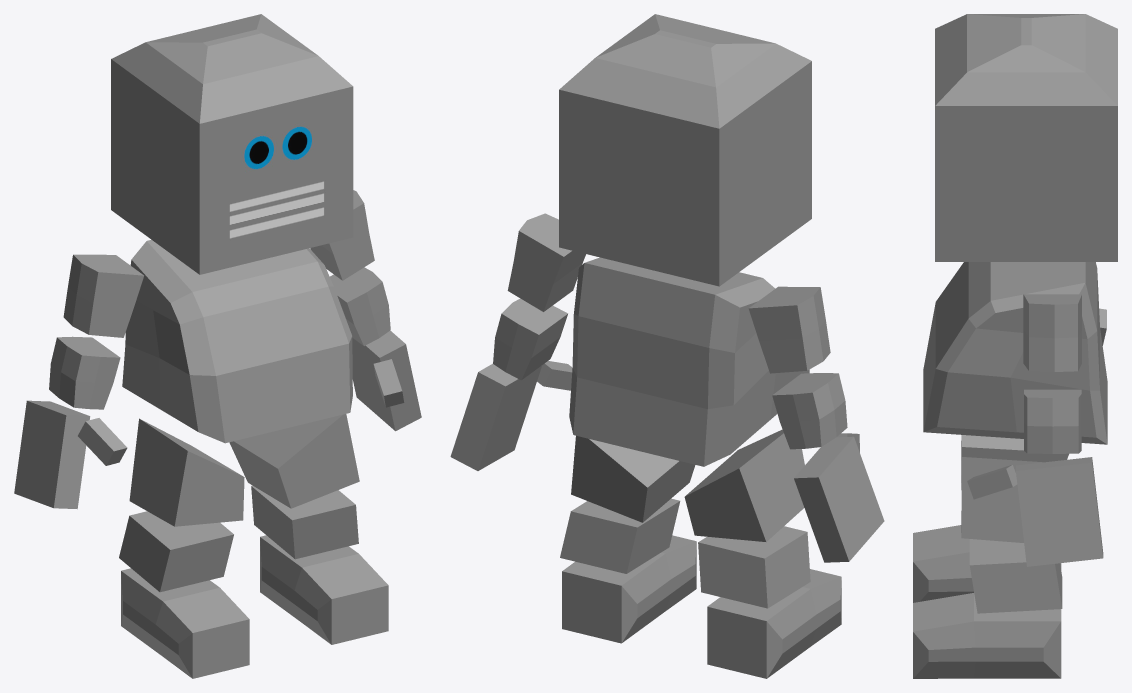
File: robot.fbx
The picture shows the model from 3 angles, left to right: view 1: azimuth 30°, elevation 25°; view 2: azimuth 150°, elevation 25°; view 3: azimuth 270°, elevation 25°; orthographic projection. The views are drawn at different scales.
Parts seen in each view (by area): view 1: robot:polySurface19; view 2: robot:polySurface19; view 3: robot:polySurface19.
Part boxes in pixels (box(x1,y1,x2,y2)): robot:polySurface19: box(14, 14, 421, 678); robot:polySurface19: box(450, 14, 884, 678); robot:polySurface19: box(913, 14, 1117, 678).
Bounding box in the file's own units: 10.57 × 15.47 × 4.82.
